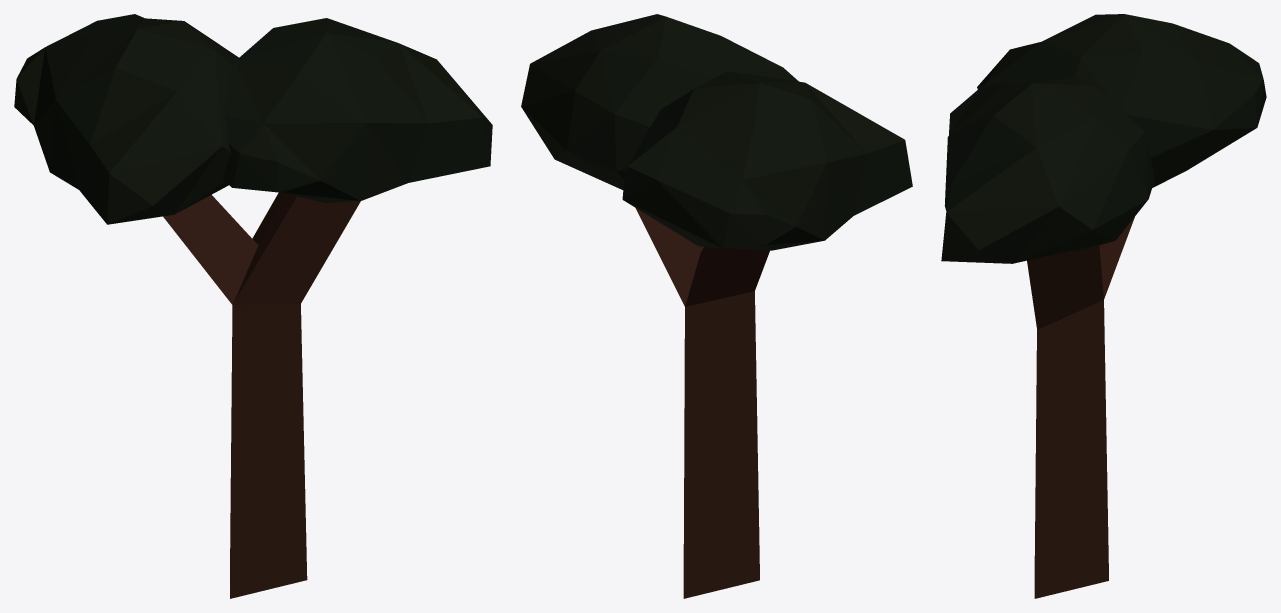
File: CityPlant2.fbx.glb
The picture shows the model from 3 angles, left to right: view 1: azimuth 30°, elevation 25°; view 2: azimuth 150°, elevation 25°; view 3: azimuth 270°, elevation 25°; orthographic projection. The views are drawn at different scales.
Parts seen in each view (by area): view 1: CityPlant2; view 2: CityPlant2; view 3: CityPlant2.
Boxes of the visible parts, x1,y1,x2,y2 form: CityPlant2: [14, 14, 492, 598]; CityPlant2: [521, 14, 912, 598]; CityPlant2: [941, 14, 1266, 598].
Bounding box in the file's own units: 47.53 × 66.77 × 37.34.
